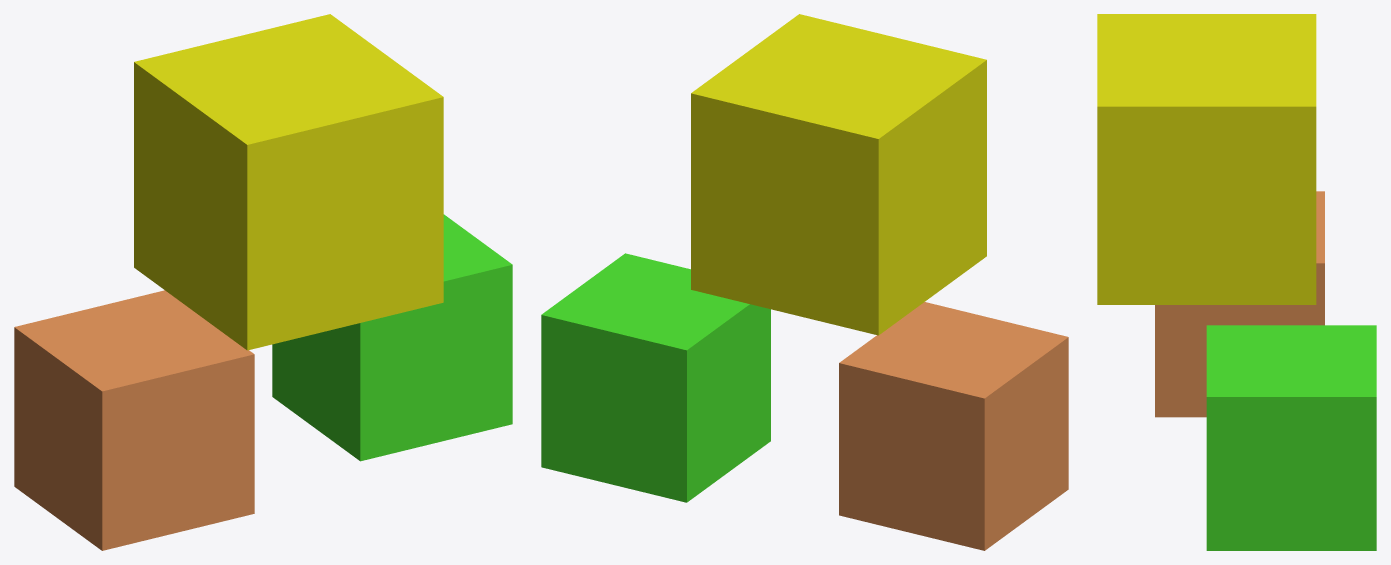
Rendered from clickables.glb.
3 renders of one model, left to right at view 1: azimuth 30°, elevation 25°; view 2: azimuth 150°, elevation 25°; view 3: azimuth 270°, elevation 25°, orthographic. The views are drawn at different scales.
Parts seen in each view (by area): view 1: other_objects_cube, cube2_videotarget, cube1; view 2: other_objects_cube, cube2_videotarget, cube1; view 3: other_objects_cube, cube1, cube2_videotarget.
Boxes of the visible parts, x1,y1,x2,y2 form: other_objects_cube: (134,14,443,350); cube2_videotarget: (14,290,254,550); cube1: (272,214,512,461); other_objects_cube: (691,14,986,335); cube2_videotarget: (839,302,1068,550); cube1: (541,253,770,502); other_objects_cube: (1097,14,1316,304); cube1: (1206,325,1376,550); cube2_videotarget: (1155,191,1324,417).
Size of the model in its own units: 1.68 by 1.47 by 0.9606.
